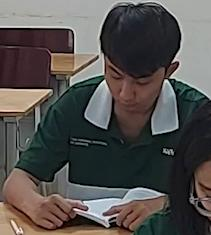Reading: (0, 0, 206, 228)
